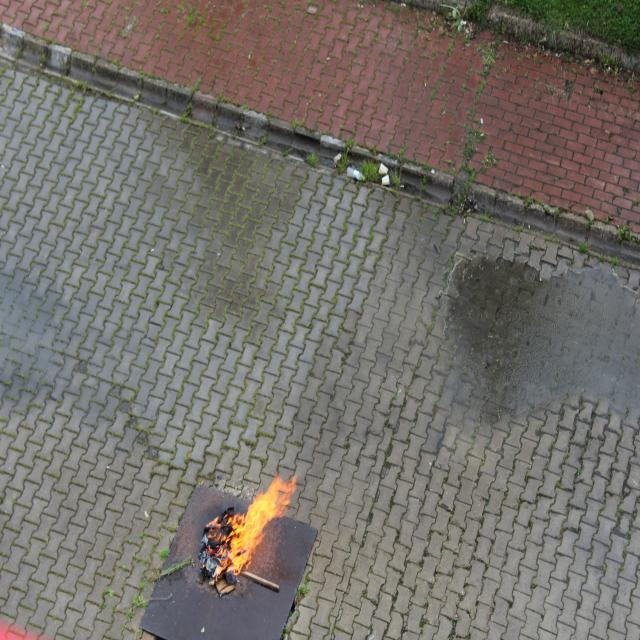fire: (216, 463, 296, 583)
